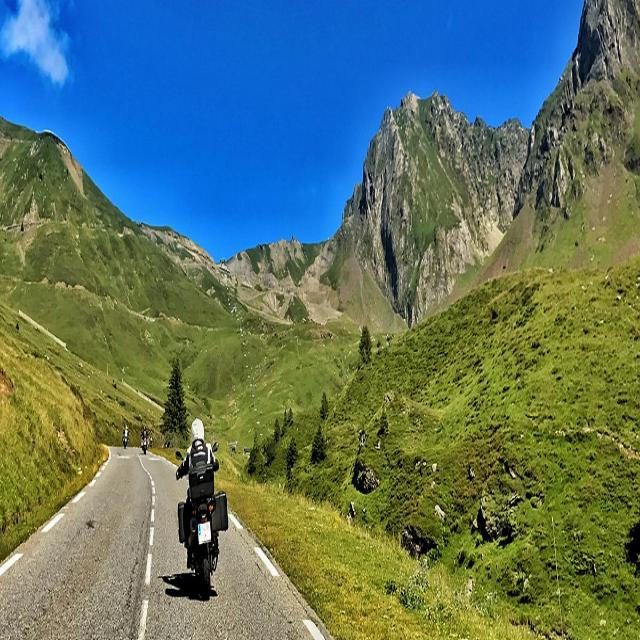MOTORCYCLE: (176, 454, 221, 596), (141, 430, 148, 454), (123, 430, 128, 445)
